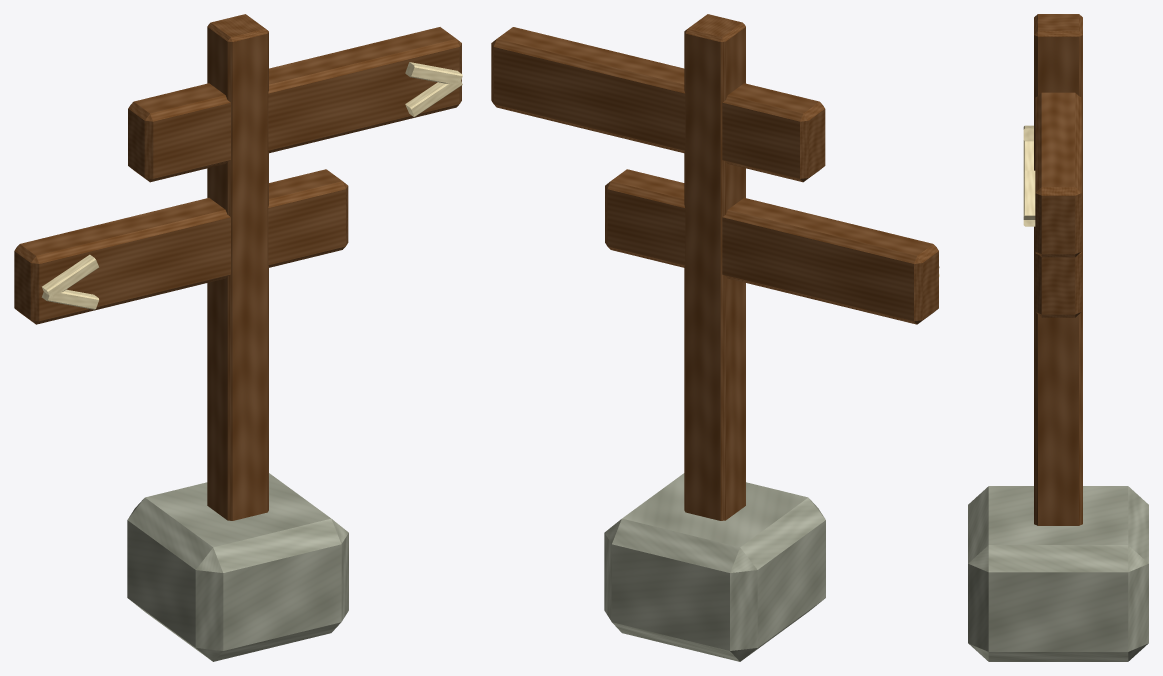
Rendered from survey_waymarker.glb.
3 renders of one model, left to right at view 1: azimuth 30°, elevation 25°; view 2: azimuth 150°, elevation 25°; view 3: azimuth 270°, elevation 25°, orthographic. The views are drawn at different scales.
Visible parts, largest first — view 1: survey_waymarker; view 2: survey_waymarker; view 3: survey_waymarker.
Boxes of the visible parts, x1,y1,x2,y2 form: survey_waymarker: (14,14,462,661); survey_waymarker: (491,14,939,661); survey_waymarker: (968,14,1148,661).
Bounding box in the file's own units: 1.97 × 2.61 × 0.7.
Materials: 1 (1 with a texture image).
